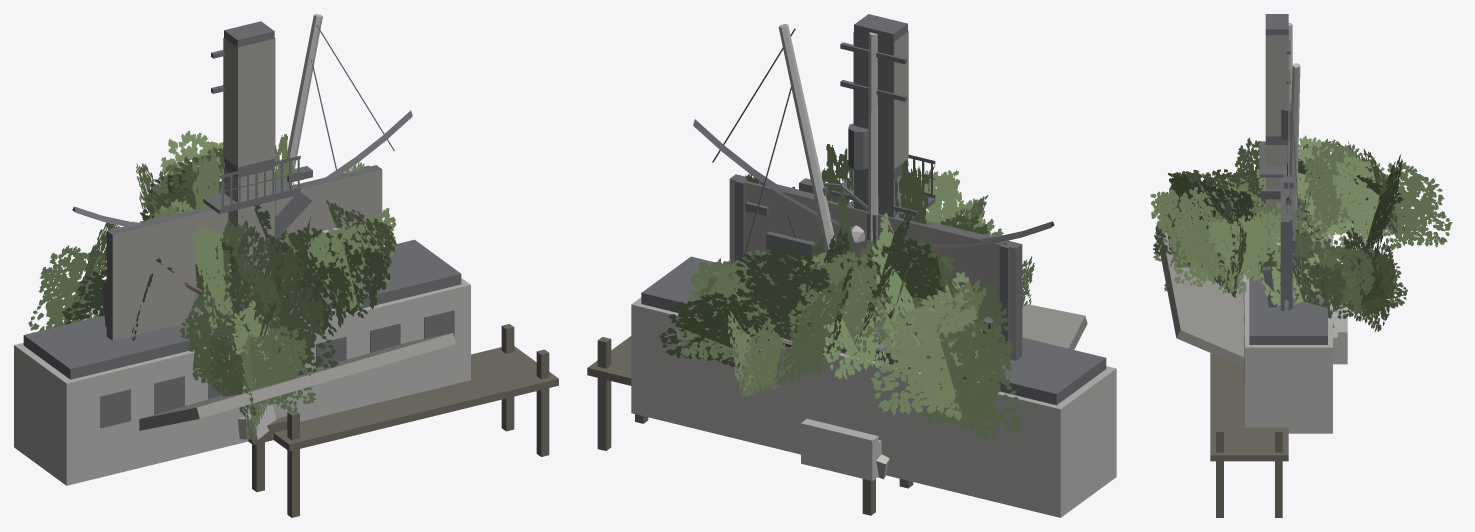
File: biblioteca.glb
The picture shows the model from 3 angles, left to right: view 1: azimuth 30°, elevation 25°; view 2: azimuth 150°, elevation 25°; view 3: azimuth 270°, elevation 25°; orthographic projection. The views are drawn at different scales.
Parts seen in each view (by area): view 1: caja.012, azotea_panel, arbol_copa, arbol_copa.002, pantalan, arbol_copa.001, techo.001, panel.001, torre_f7, torre_f4, cortina.002, torre_l7 (+11 smaller); view 2: caja.012, arbol_copa.001, arbol_copa, azotea_panel, techo.001, torre, arbol_copa.002, pantalan, poste.012, cortina.002, panel.001, poste.011 (+9 smaller); view 3: arbol_copa.002, arbol_copa.001, caja.012, arbol_copa, pantalan, panel.001, techo.001, torre_r7, azotea_panel, poste.012, torre_r4, torre (+2 smaller).
Part boxes in pixels (x1,y1,x2,y2): caja.012: (14, 278, 470, 485); azotea_panel: (106, 165, 382, 340); arbol_copa: (133, 183, 338, 442); arbol_copa.002: (195, 199, 396, 344); pantalan: (252, 324, 558, 517); arbol_copa.001: (28, 130, 277, 341); techo.001: (23, 239, 461, 379); panel.001: (139, 333, 455, 430); torre_f7: (238, 38, 274, 167); torre_f4: (238, 169, 274, 295); cortina.002: (192, 134, 293, 211); torre_l7: (223, 38, 236, 166); caja.012: (631, 297, 1116, 517); arbol_copa.001: (730, 185, 1021, 441); arbol_copa: (659, 215, 1034, 397); azotea_panel: (729, 174, 1022, 360); techo.001: (641, 256, 1106, 405); torre: (854, 14, 907, 217); arbol_copa.002: (691, 165, 988, 324); pantalan: (587, 336, 913, 515); poste.012: (778, 24, 835, 261); cortina.002: (821, 144, 928, 224); panel.001: (1022, 303, 1087, 349); poste.011: (868, 32, 878, 249); arbol_copa.002: (1150, 169, 1378, 327); arbol_copa.001: (1253, 135, 1452, 257); caja.012: (1244, 233, 1332, 433); arbol_copa: (1153, 137, 1407, 331); pantalan: (1210, 353, 1288, 517); panel.001: (1155, 220, 1243, 366); techo.001: (1249, 218, 1327, 344); torre_r7: (1265, 35, 1288, 136); azotea_panel: (1280, 177, 1290, 310); poste.012: (1289, 63, 1300, 260); torre_r4: (1265, 145, 1288, 225); torre: (1265, 14, 1288, 250).
Bounding box in the file's own units: 14 × 13.1 × 9.65.
Materials: 32 (6 with a texture image).
